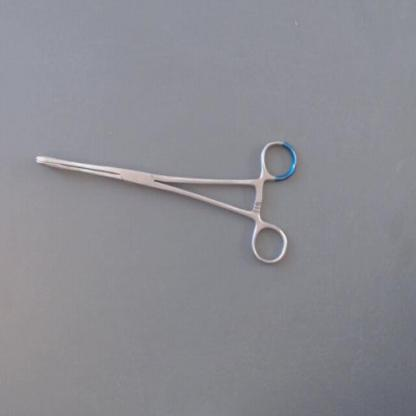Sponge Forceps: (32, 131, 300, 273)
